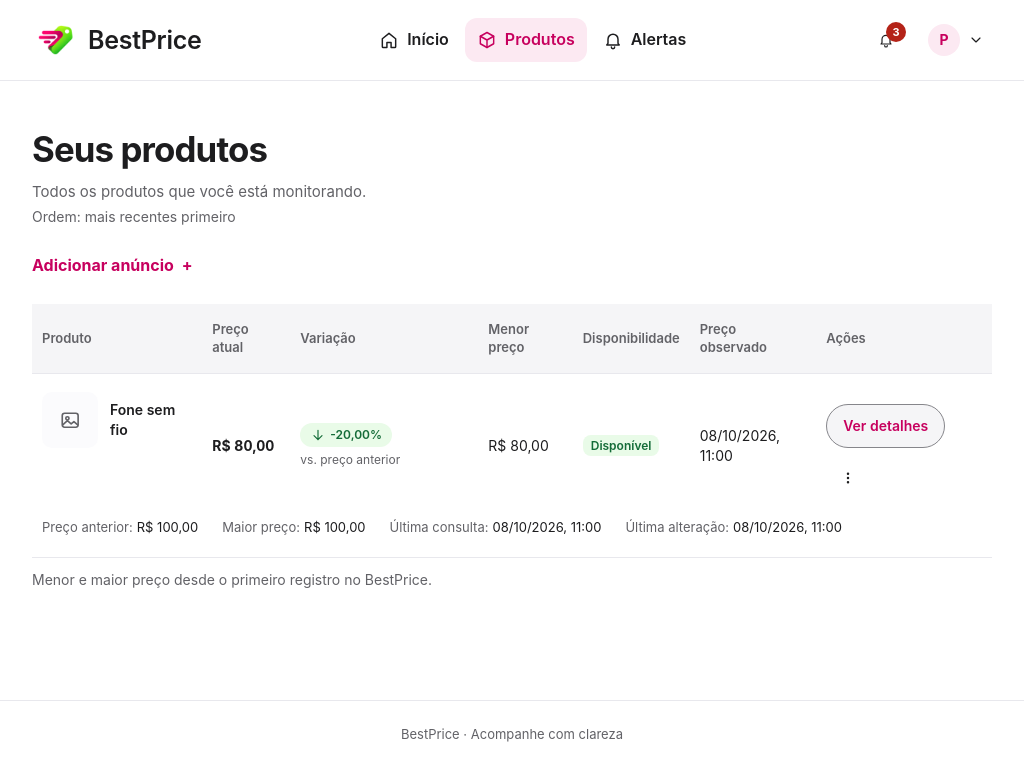
contador do sino › recalcula pela API após marcar como lida, sem decrementar localmente
Click the button named "Notificações" at coordinates (886, 40), box [864,18,908,62]
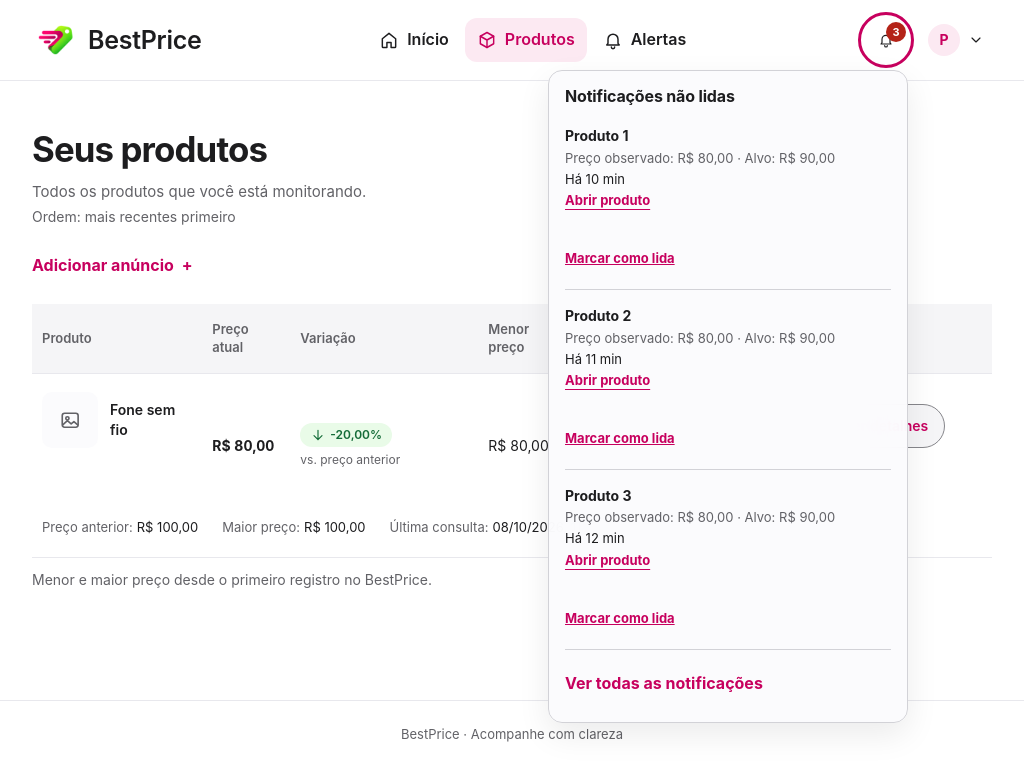
Click the button "Marcar como lida" below "Produto 1" at coordinates (620, 259), box [565,237,675,281]
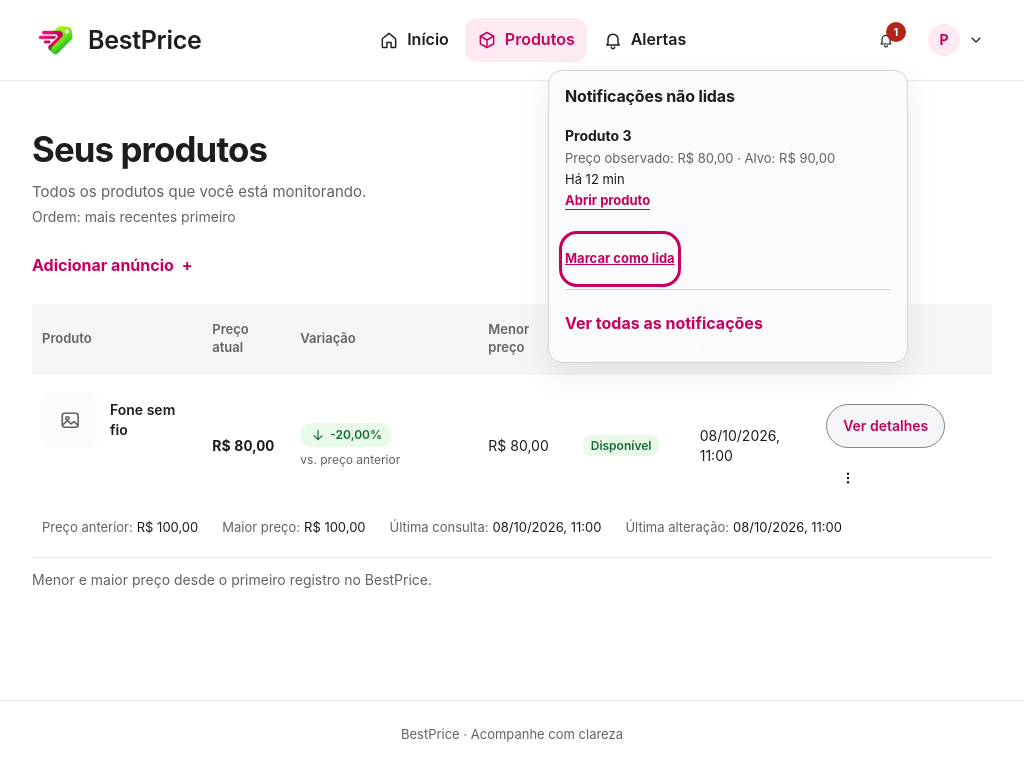
Now the text "1" is shown, box [886,22,906,42]
